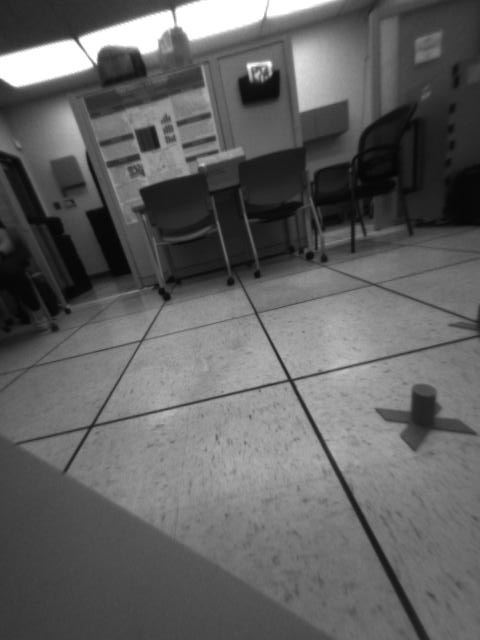X: (375, 384, 477, 452)
